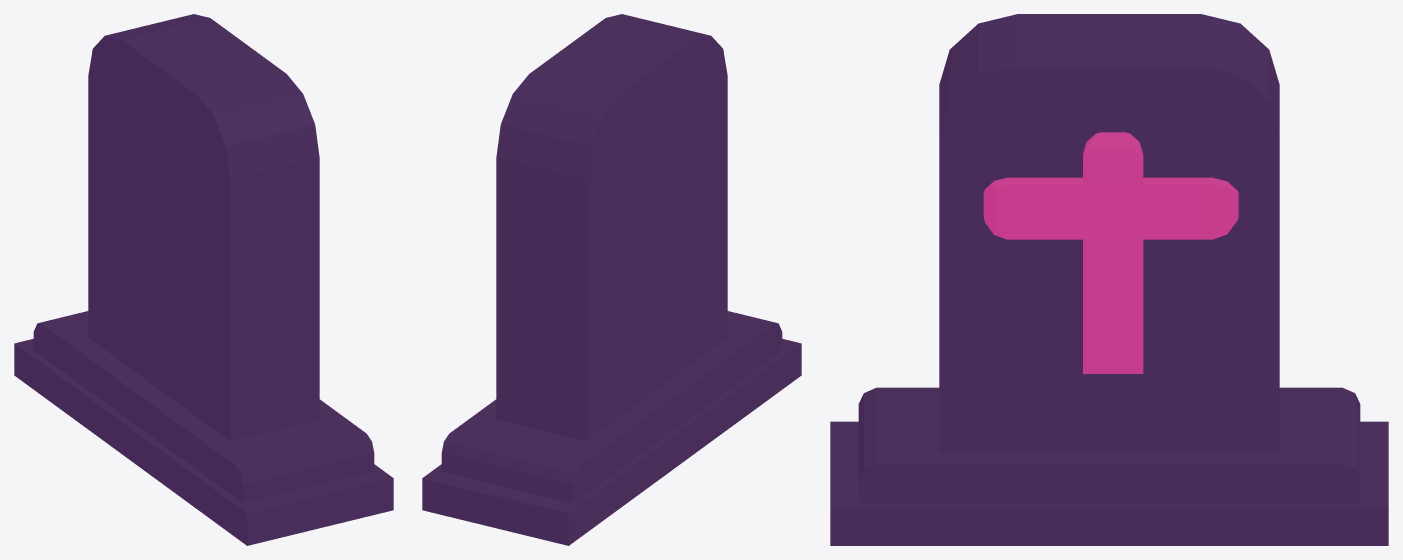
The model's file is grave_type_02.glb.
The picture shows the model from 3 angles, left to right: view 1: azimuth 30°, elevation 25°; view 2: azimuth 150°, elevation 25°; view 3: azimuth 270°, elevation 25°; orthographic projection. The views are drawn at different scales.
Parts seen in each view (by area): view 1: Cube.002; view 2: Cube.002; view 3: Cube.002.
Boxes of the visible parts, left/top/right/bottom form: Cube.002: left=14, top=14, right=393, bottom=545; Cube.002: left=422, top=14, right=801, bottom=545; Cube.002: left=830, top=14, right=1388, bottom=545.
Bounding box in the file's own units: 0.9516 × 2.4 × 2.62.
